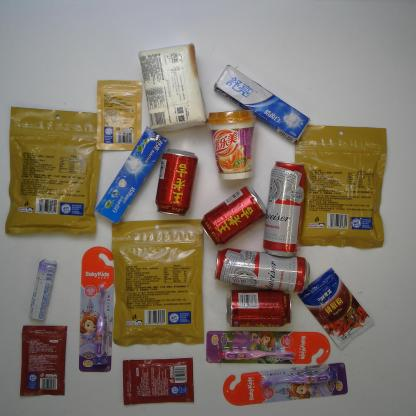Alcohol: (211, 246, 312, 298), (260, 158, 307, 258)
Candy: (26, 256, 60, 323)
Dried Fruit: (4, 105, 104, 237), (108, 215, 206, 348), (284, 124, 388, 249)
Drink: (198, 185, 269, 248), (223, 285, 294, 330), (155, 146, 199, 217)
Instant Drink: (206, 106, 260, 184)
Personal Hygiene: (93, 122, 172, 224), (214, 64, 311, 144), (223, 362, 349, 408), (202, 328, 333, 366), (78, 246, 115, 373)
Seasoner: (296, 266, 379, 352), (93, 78, 145, 155), (17, 324, 69, 398), (123, 356, 196, 407)
Tissue: (137, 40, 209, 137)
